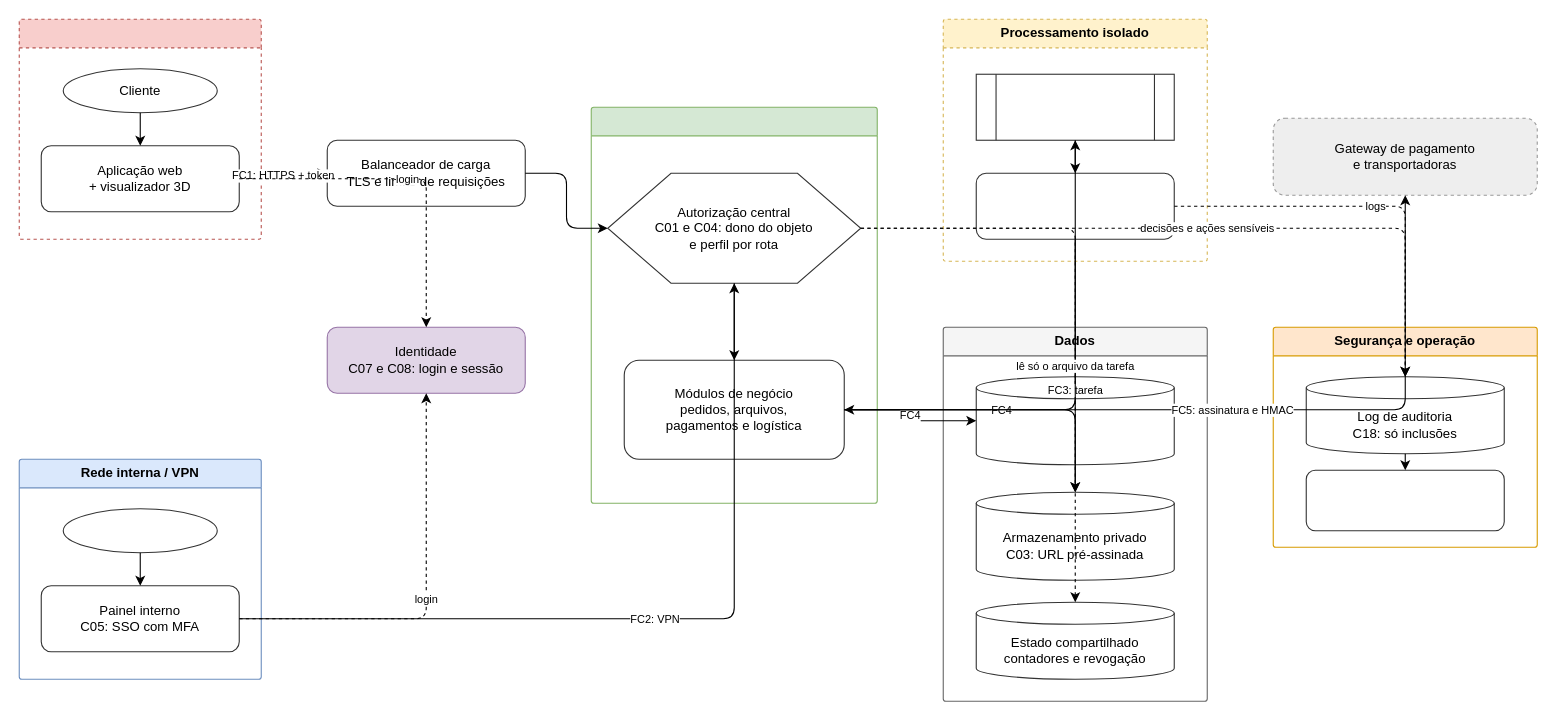
Image size: 1557x721. Some labels were removed from this diagram. Here are the shapes that lost their labels. From the top down, the box of each, then its label:
(975, 73, 1174, 140): Fila C10: cota por conta
(18, 18, 261, 239): Internet (não confiável)
(975, 172, 1174, 239): Workers descartáveis C11: sem rede e sem root
(590, 106, 877, 503): API back-end
(975, 376, 1174, 465): Banco de dados C02: UUID
(1305, 469, 1504, 531): Monitoramento C19: alertas e resposta
(62, 508, 217, 553): Equipe interna
